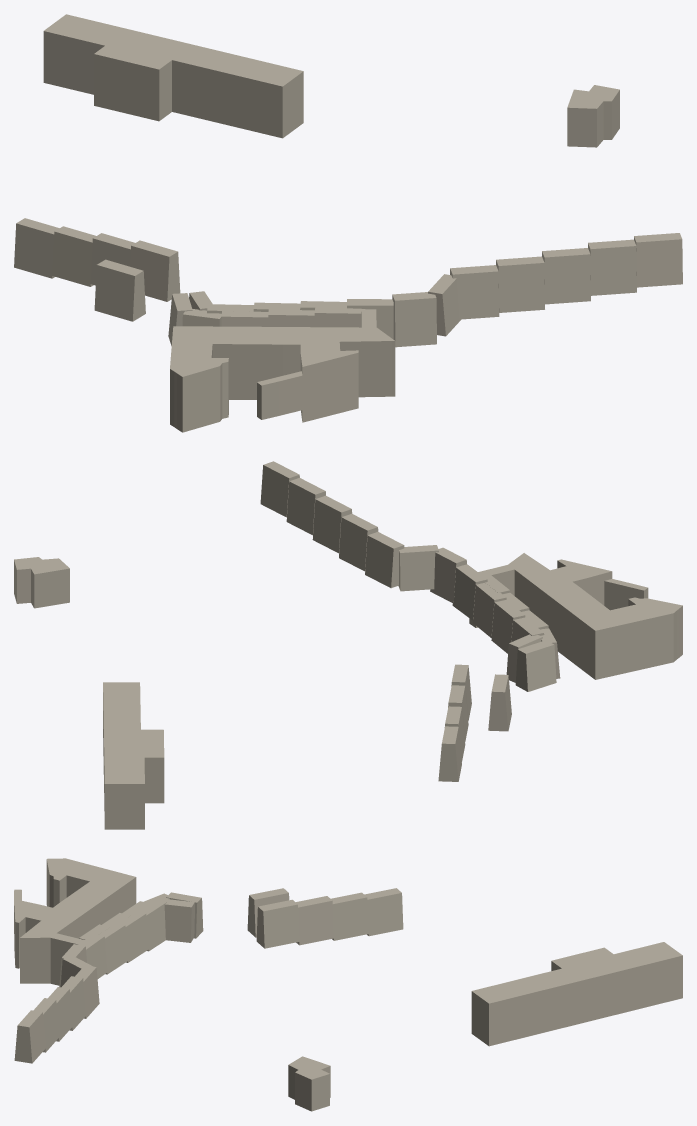
Rendered from bormla_62_28_mid.glb.
3 renders of one model, top to bottom at view 1: azimuth 30°, elevation 25°; view 2: azimuth 150°, elevation 25°; view 3: azimuth 270°, elevation 25°, orthographic. The views are drawn at different scales.
Parts seen in each view (by area): view 1: geometry_0; view 2: geometry_0; view 3: geometry_0.
Boxes of the visible parts, left/top/right/bottom form: geometry_0: left=14, top=14, right=682, bottom=432; geometry_0: left=14, top=461, right=682, bottom=829; geometry_0: left=14, top=858, right=682, bottom=1111.
Size of the model in its own units: 180 by 25.56 by 211.
